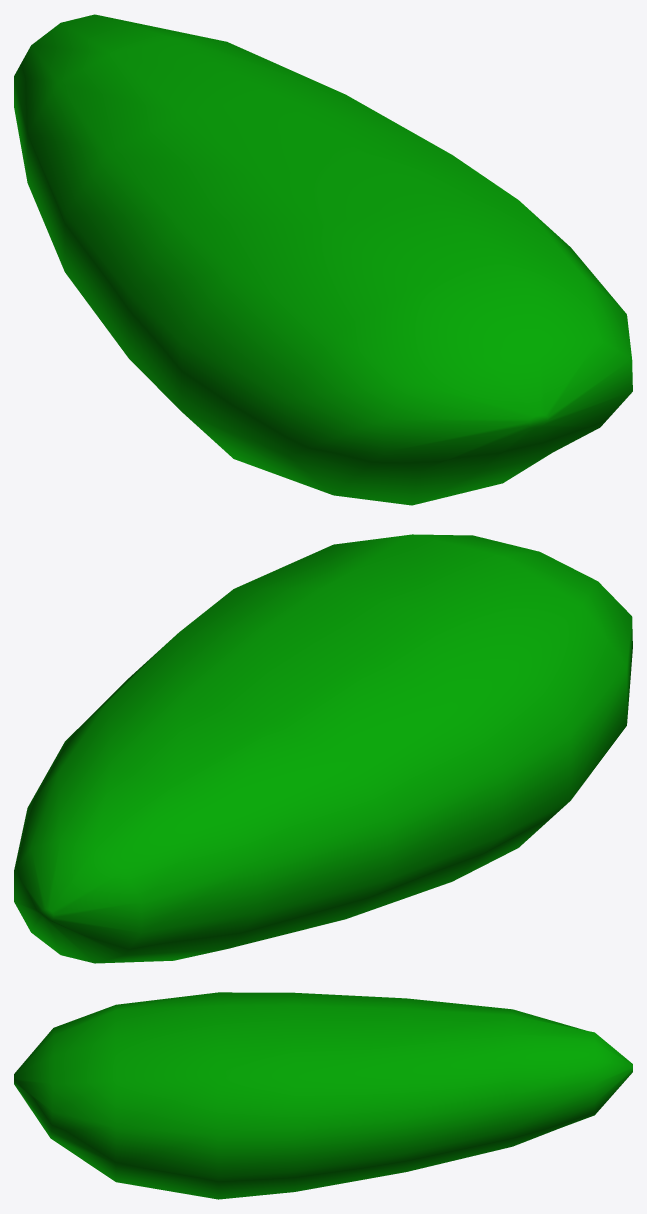
The model's file is gasbag_aux_large_tapered.glb.
3 views of the same model, one above another, from view 1: azimuth 30°, elevation 25°; view 2: azimuth 150°, elevation 25°; view 3: azimuth 270°, elevation 25° (orthographic). The views are drawn at different scales.
Parts seen in each view (by area): view 1: Cylinder.001; view 2: Cylinder.001; view 3: Cylinder.001.
Boxes of the visible parts, box(x1,y1,x2,y2) form: Cylinder.001: box(14, 14, 632, 505); Cylinder.001: box(14, 534, 632, 963); Cylinder.001: box(14, 992, 632, 1199).
Size of the model in its own units: 13.09 by 7.97 by 28.59.
